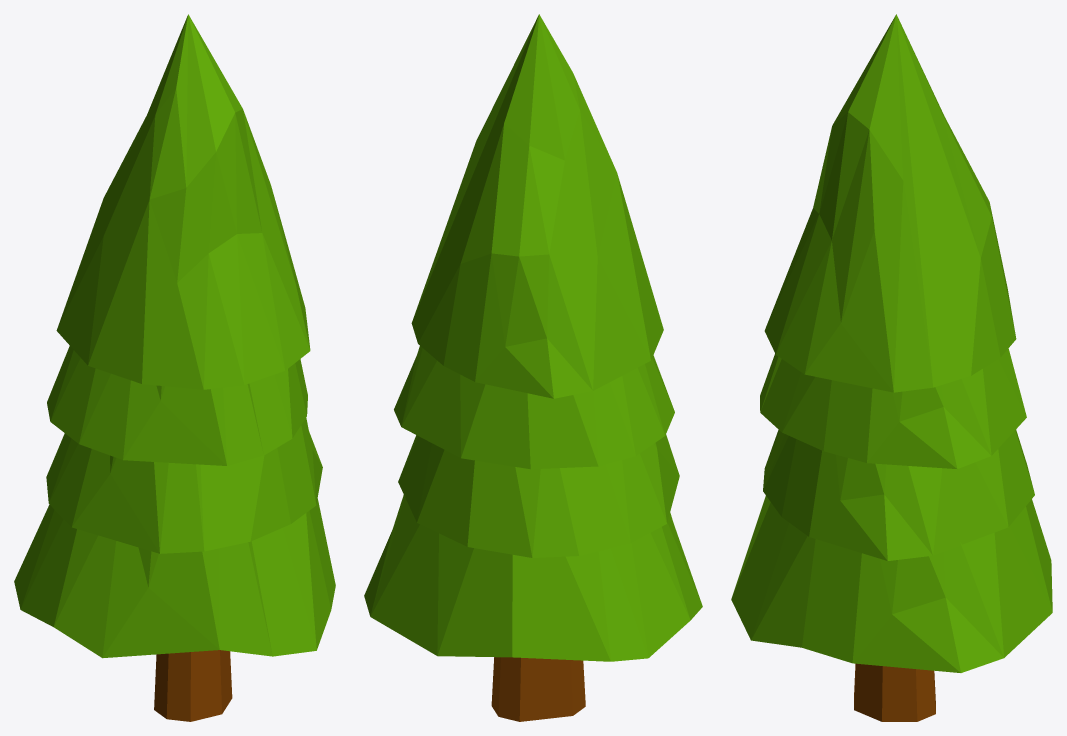
File: single_PineTree.fbx
The picture shows the model from 3 angles, left to right: view 1: azimuth 30°, elevation 25°; view 2: azimuth 150°, elevation 25°; view 3: azimuth 270°, elevation 25°; orthographic projection.
Visible parts, largest first — view 1: Cube; view 2: Cube; view 3: Cube.
Part boxes in pixels (x1,y1,x2,y2): Cube: (14, 14, 335, 721); Cube: (364, 14, 702, 721); Cube: (731, 14, 1052, 721).
Bounding box in the file's own units: 217 × 503 × 213.
